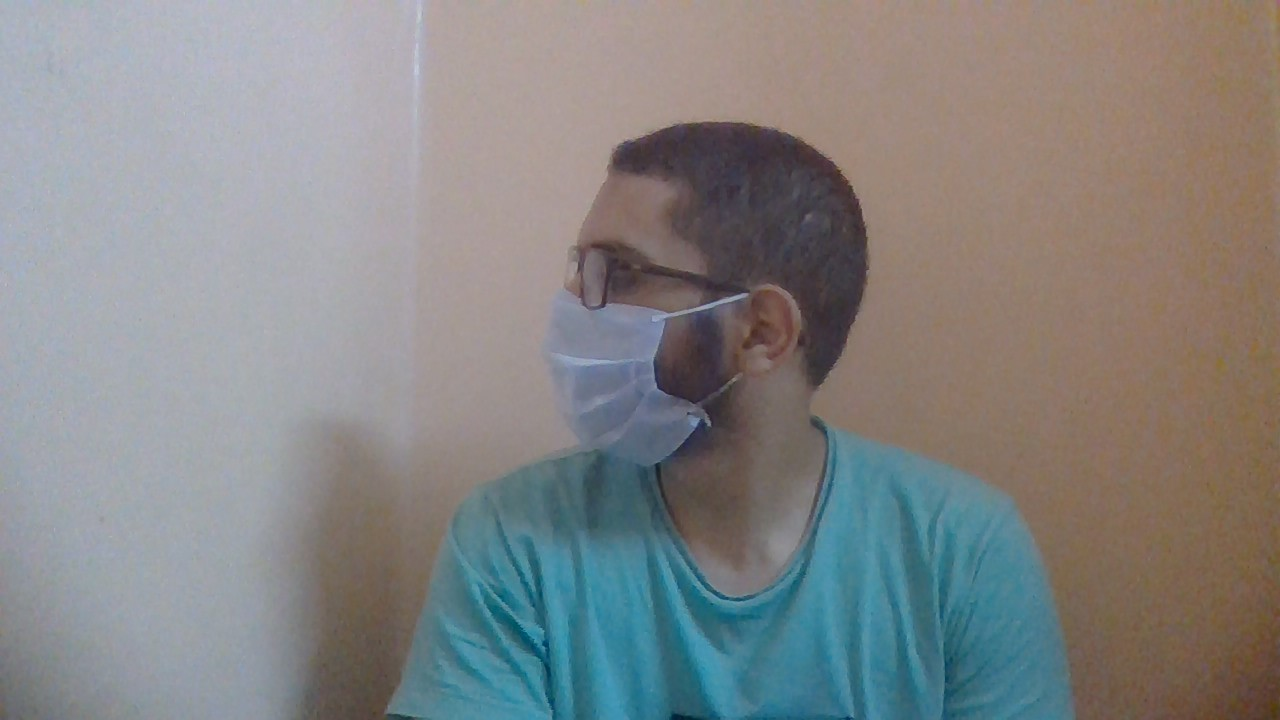mask: (545, 291, 714, 466)
